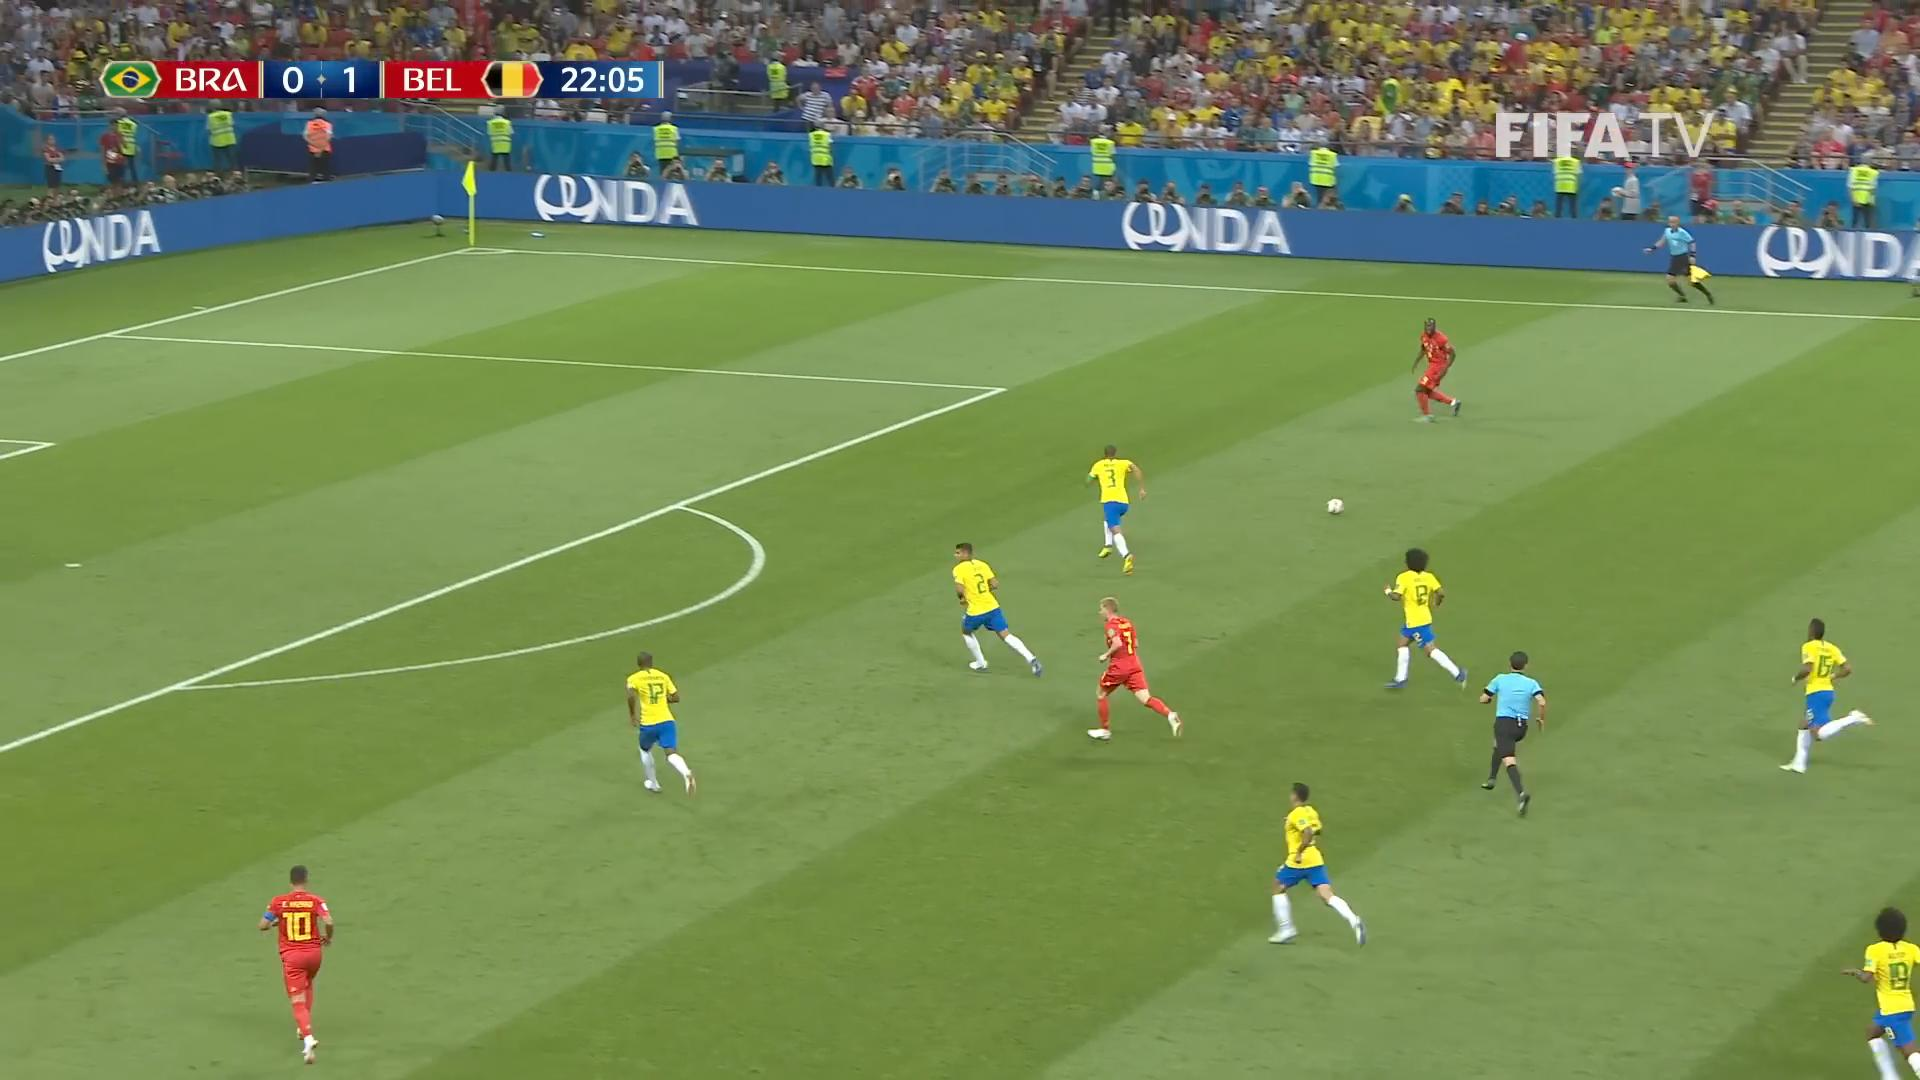ball: (1327, 497, 1344, 515)
player: (1266, 781, 1366, 947), (257, 864, 334, 1063), (1778, 615, 1874, 773), (1085, 595, 1182, 741), (1840, 905, 1918, 1078), (950, 541, 1044, 677), (1381, 546, 1468, 691), (624, 650, 696, 796), (1084, 442, 1146, 574), (1409, 316, 1460, 423)
referee: (1478, 649, 1546, 817), (1642, 212, 1714, 303)
